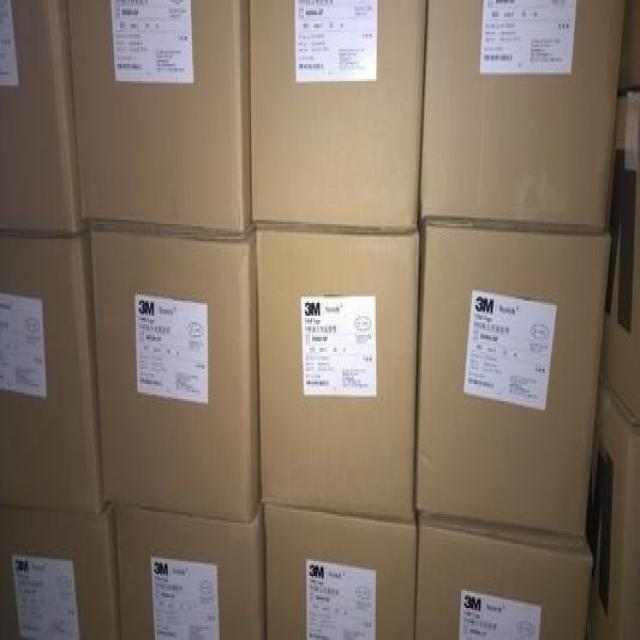box: (413, 220, 612, 538), (88, 226, 262, 523), (256, 226, 419, 521), (419, 0, 626, 230), (66, 0, 253, 239), (247, 0, 426, 233), (0, 228, 107, 514), (414, 512, 593, 640), (264, 503, 418, 640), (112, 506, 267, 640), (0, 503, 119, 640), (584, 373, 640, 640), (599, 90, 640, 425)
